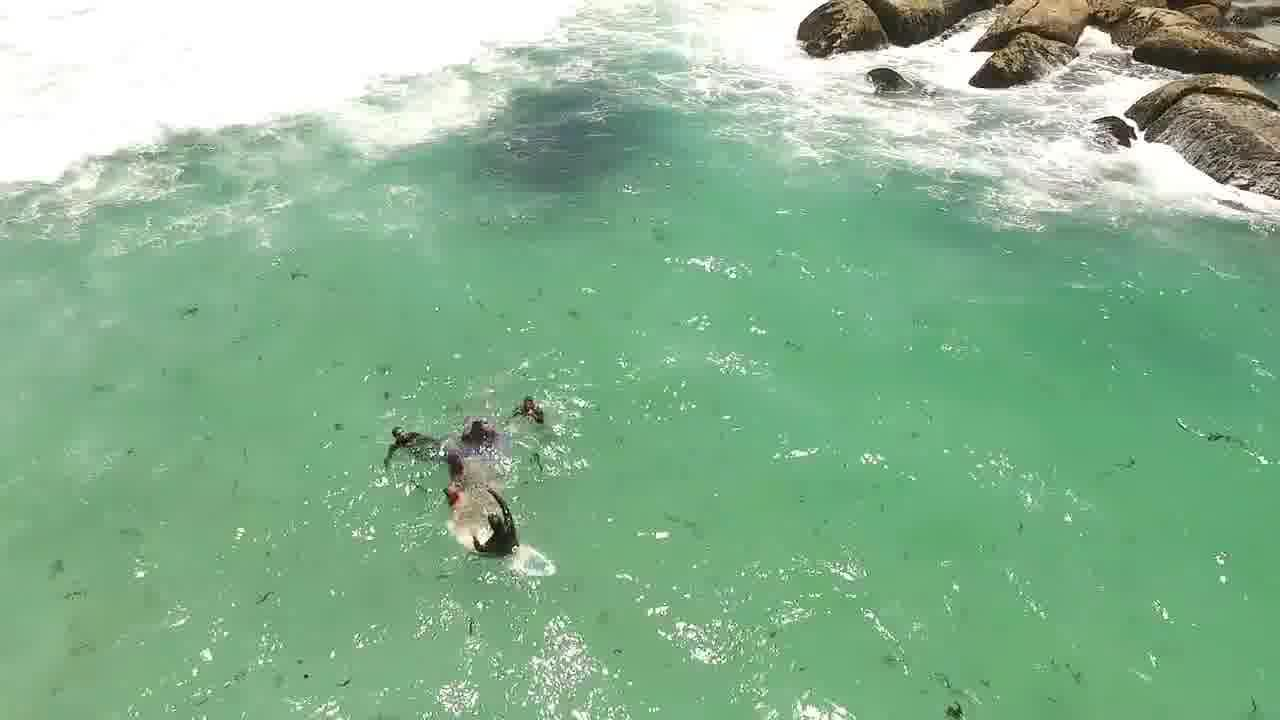human: (461, 505, 527, 565), (371, 421, 438, 462), (431, 438, 489, 476), (501, 393, 559, 430), (433, 474, 481, 516), (454, 414, 509, 447)
